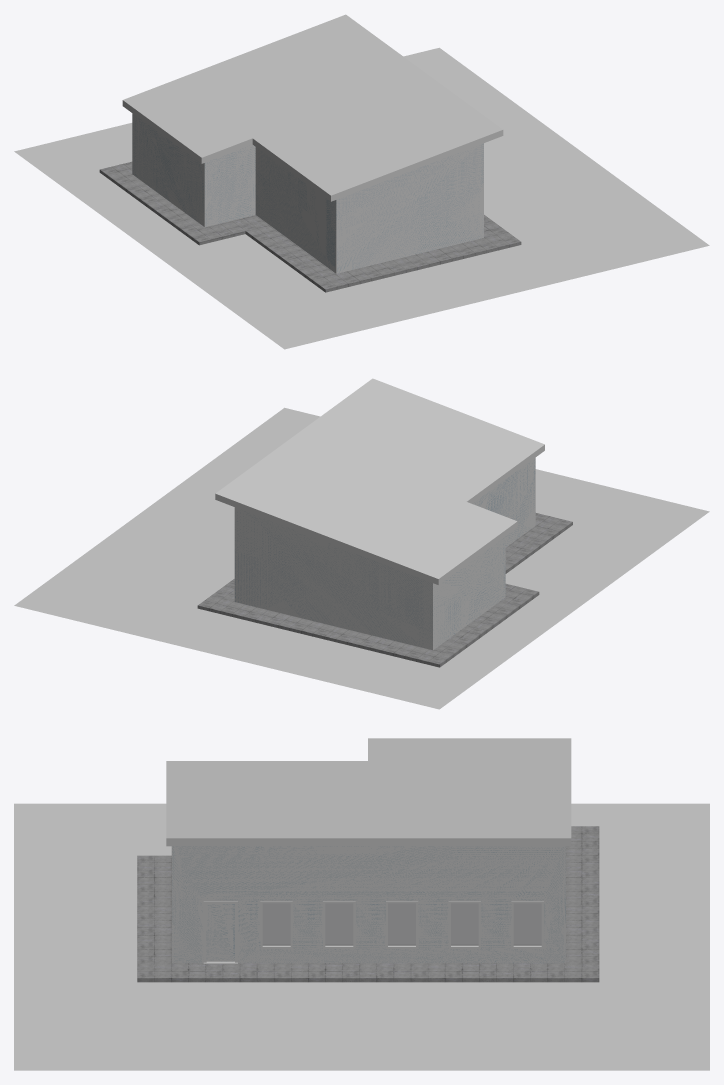
File: GraffTest.dae
3 views of the same model, one above another, from view 1: azimuth 30°, elevation 25°; view 2: azimuth 150°, elevation 25°; view 3: azimuth 270°, elevation 25° (orthographic). The views are drawn at different scales.
Parts seen in each view (by area): view 1: SketchUp (×3), group_1, group_2; view 2: SketchUp (×3), group_1, group_2; view 3: SketchUp (×3), group_1 (×3), group_2, instance_0, instance_1, instance_4, instance_2, instance_3.
Part boxes in pixels (left/top/right/bottom): SketchUp (×3): left=14, top=14, right=709, bottom=349; group_1: left=132, top=113, right=483, bottom=273; group_2: left=99, top=161, right=521, bottom=292; SketchUp (×3): left=14, top=378, right=709, bottom=709; group_1: left=234, top=458, right=535, bottom=650; group_2: left=197, top=513, right=572, bottom=667; SketchUp (×3): left=14, top=738, right=709, bottom=1070; group_1 (×3): left=171, top=846, right=565, bottom=963; group_2: left=137, top=826, right=599, bottom=982; instance_0: left=262, top=903, right=290, bottom=945; instance_1: left=325, top=903, right=353, bottom=945; instance_4: left=513, top=903, right=541, bottom=945; instance_2: left=388, top=903, right=415, bottom=945; instance_3: left=451, top=903, right=478, bottom=945.
Size of the model in its own units: 846 by 931 by 206.
